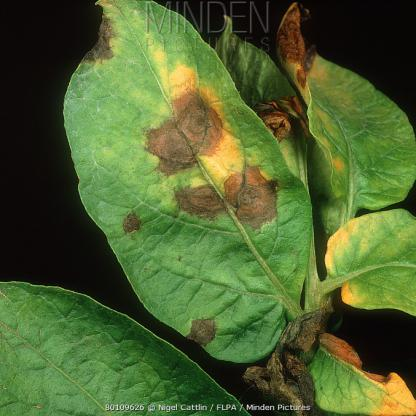Potato leaf early blight: (62, 1, 320, 368)
